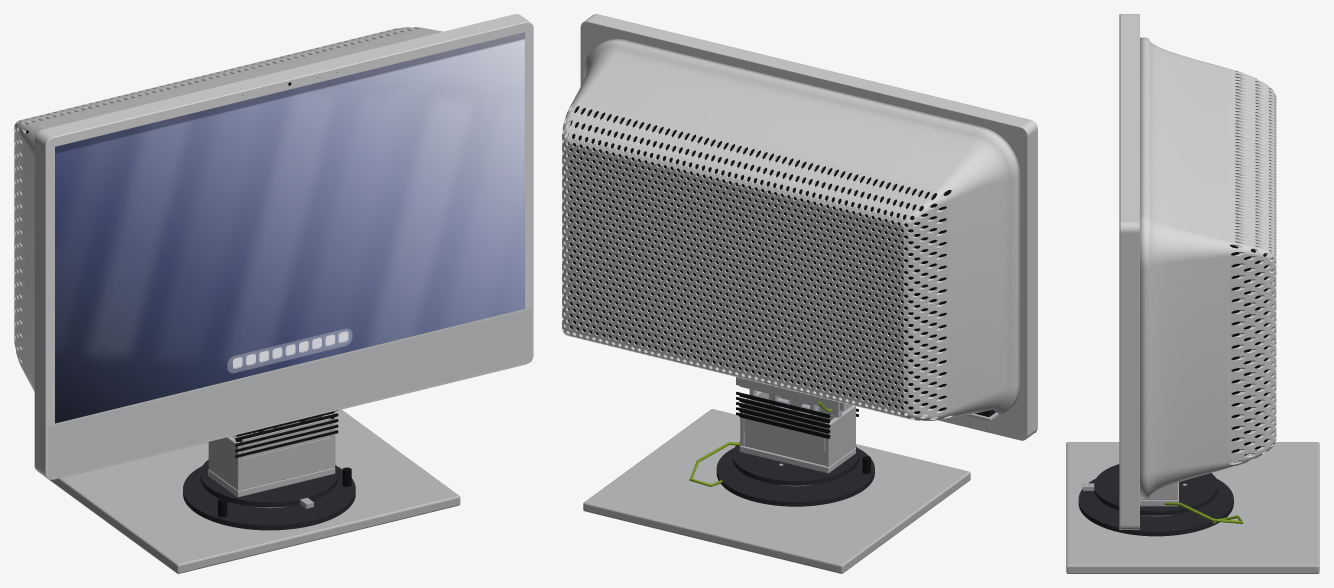
The model's file is imac_pc.v014__2026-11-06_93238a3.glb.
The picture shows the model from 3 angles, left to right: view 1: azimuth 30°, elevation 25°; view 2: azimuth 150°, elevation 25°; view 3: azimuth 270°, elevation 25°; orthographic projection. The views are drawn at different scales.
Visible parts, largest first — view 1: display, chin_print, stand_foot, front_glass, cover_back, slab, stand_swivel_stator, stand_neck_cover1, stand_swivel_rotor, stand_arm0, stand_neck_tab, stand_neck_base; view 2: cover_back, stand_foot, cover_filter, slab, stand_swivel_stator, stand_swivel_rotor, stand_neck_tie, stand_arm0, stand_neck_cover0, hinge_cover, stand_neck_base, front_glass; view 3: cover_back, stand_foot, slab, stand_swivel_stator, stand_swivel_rotor, cover_filter, front_glass, stand_arm1, pe_braid_swivel.
Boxes of the visible parts, bbox=[...] form: display: bbox=[55, 32, 524, 423]; chin_print: bbox=[47, 309, 531, 479]; stand_foot: bbox=[39, 409, 460, 573]; front_glass: bbox=[45, 22, 533, 479]; cover_back: bbox=[14, 27, 442, 391]; slab: bbox=[34, 14, 529, 477]; stand_swivel_stator: bbox=[183, 466, 355, 530]; stand_neck_cover1: bbox=[239, 437, 333, 490]; stand_swivel_rotor: bbox=[200, 459, 338, 507]; stand_arm0: bbox=[208, 436, 242, 490]; stand_neck_tab: bbox=[240, 418, 330, 458]; stand_neck_base: bbox=[208, 467, 335, 497]; cover_back: bbox=[562, 39, 1020, 420]; stand_foot: bbox=[583, 409, 970, 573]; cover_filter: bbox=[568, 106, 951, 413]; slab: bbox=[580, 14, 1037, 440]; stand_swivel_stator: bbox=[716, 447, 874, 506]; stand_swivel_rotor: bbox=[732, 442, 858, 485]; stand_neck_tie: bbox=[744, 403, 826, 452]; stand_arm0: bbox=[825, 405, 855, 466]; stand_neck_cover0: bbox=[744, 433, 825, 465]; hinge_cover: bbox=[739, 378, 839, 410]; stand_neck_base: bbox=[739, 445, 855, 473]; front_glass: bbox=[594, 14, 1037, 429]; cover_back: bbox=[1140, 37, 1276, 498]; stand_foot: bbox=[1066, 442, 1319, 573]; slab: bbox=[1120, 14, 1139, 529]; stand_swivel_stator: bbox=[1078, 478, 1233, 536]; stand_swivel_rotor: bbox=[1094, 464, 1218, 515]; cover_filter: bbox=[1230, 245, 1268, 455]; front_glass: bbox=[1119, 14, 1120, 529]; stand_arm1: bbox=[1140, 482, 1178, 500]; pe_braid_swivel: bbox=[1164, 502, 1243, 523].
Bounding box in the file's own units: 620 × 535 × 310.
Materials: 65 (4 with a texture image).
